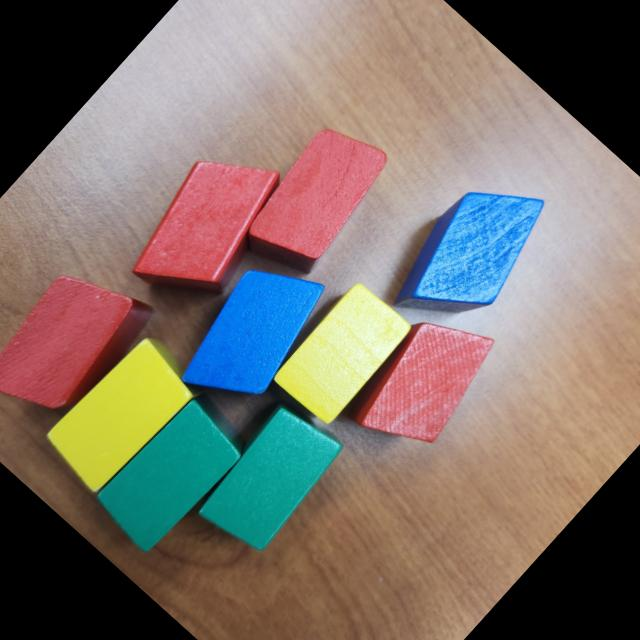blue: (373, 154, 567, 354), (162, 240, 344, 428)
green: (86, 384, 256, 561), (185, 392, 352, 566)
red: (112, 126, 306, 325), (0, 245, 163, 445), (337, 291, 512, 471), (231, 110, 402, 286)
yellow: (38, 326, 208, 502), (268, 278, 416, 430)
